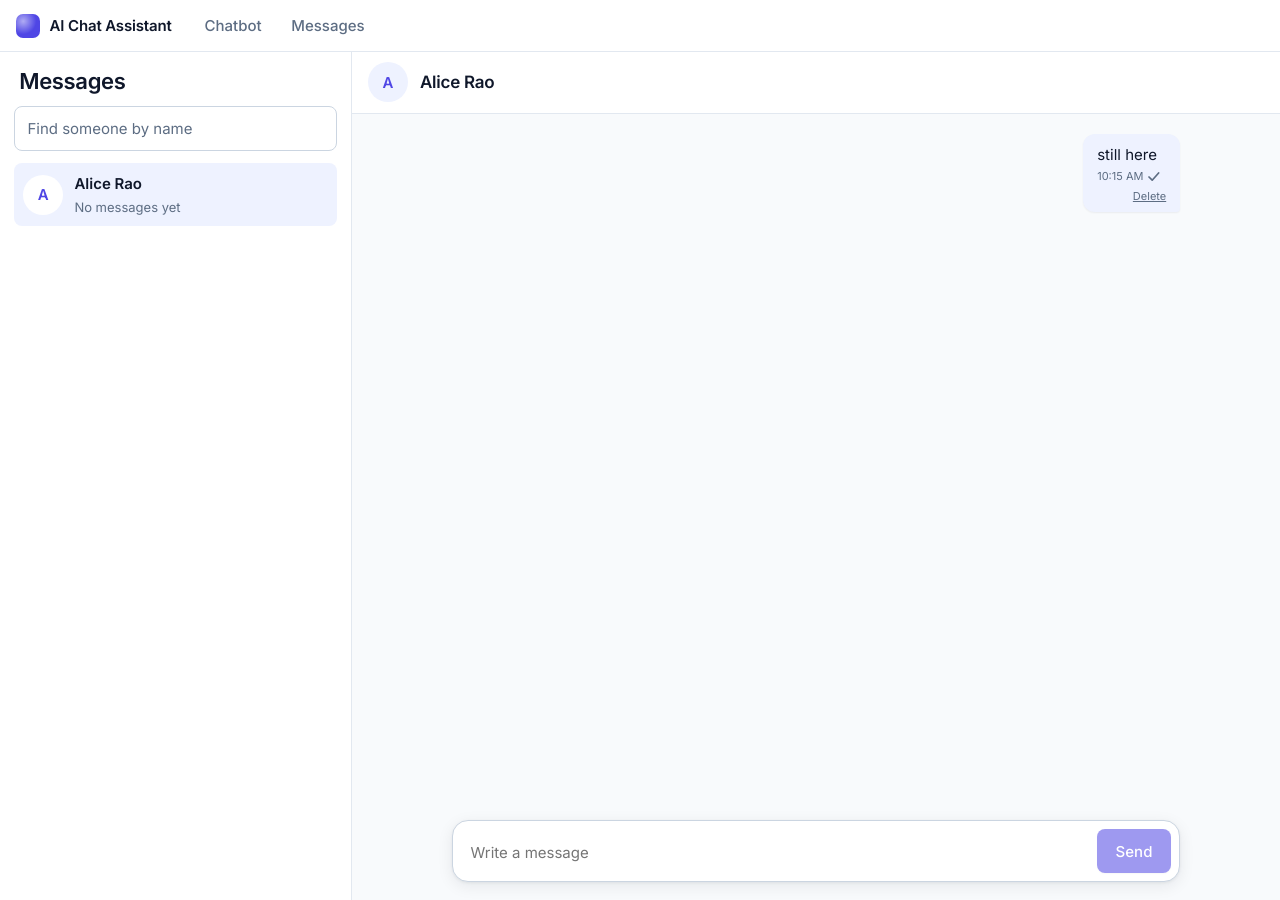
Test case: MessagesComponent › a failed delete keeps the message and shows an error
Click the button with class "delete" at (1150, 196), box top-left (1133, 188), bottom-right (1166, 205)
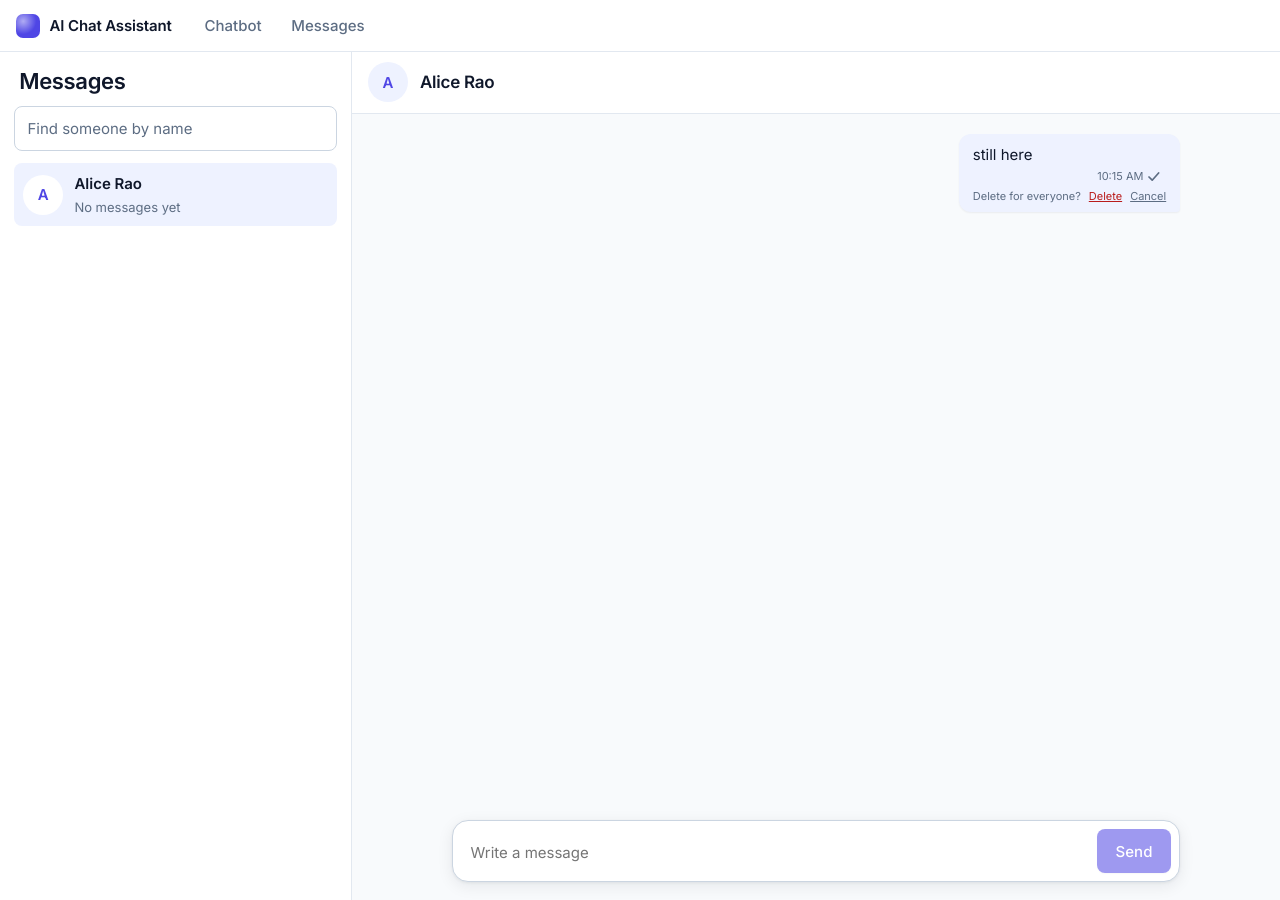
Click the button with class "danger" at (1105, 196), box top-left (1089, 188), bottom-right (1122, 205)
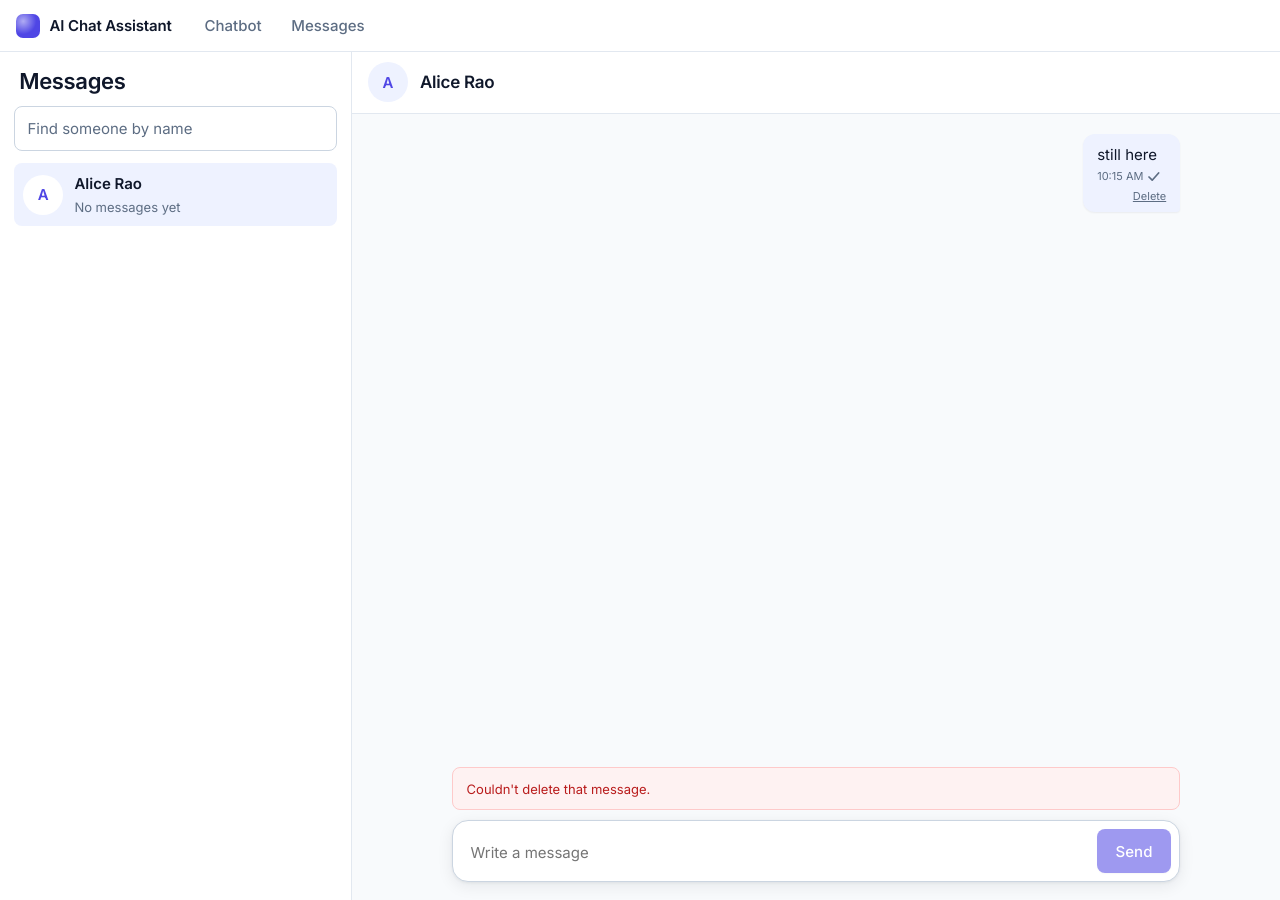
Expected: the element with class "bubble-row" shows "still here", top-left (1097, 145), bottom-right (1157, 164)
Expected: the message with class "form-error" reads "Couldn't delete that message.", top-left (467, 781), bottom-right (650, 797)
Expected: the element with class "confirm" is gone
